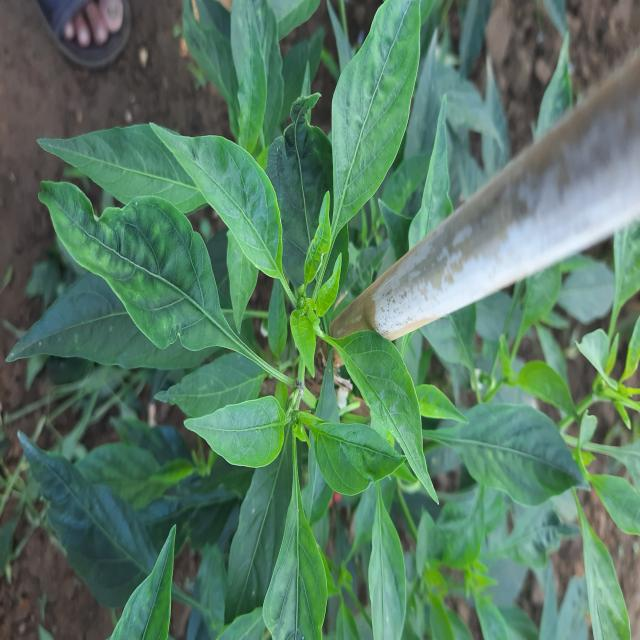sehat: (184, 393, 286, 482), (367, 492, 414, 640)
